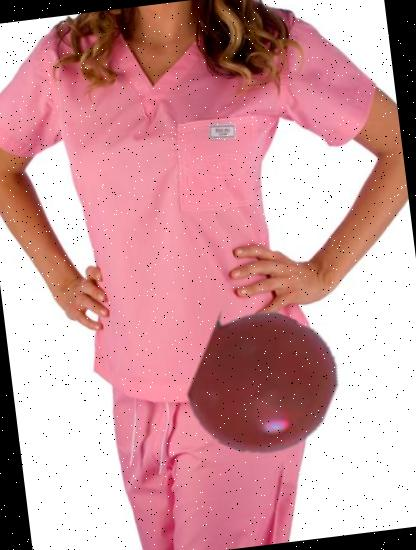Redcurrant: (185, 305, 344, 464)
